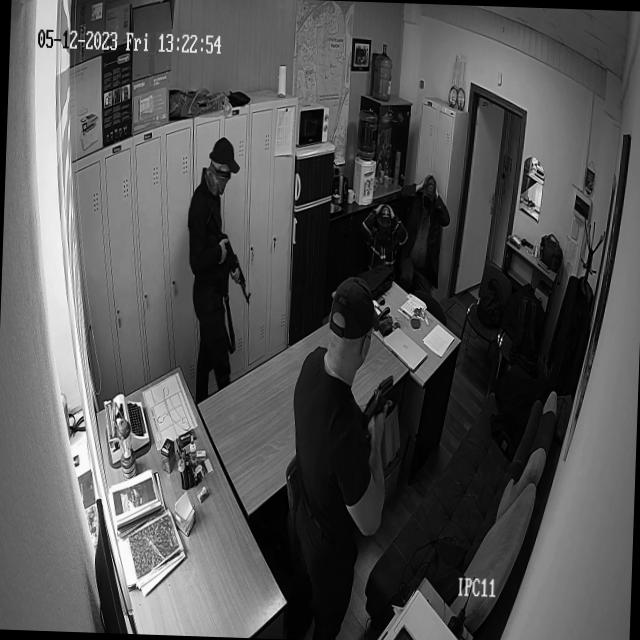gun: (360, 358, 419, 441), (218, 214, 262, 314)
person: (362, 194, 398, 256), (410, 179, 448, 233)
person with a gun: (301, 273, 404, 640), (178, 128, 262, 396)
